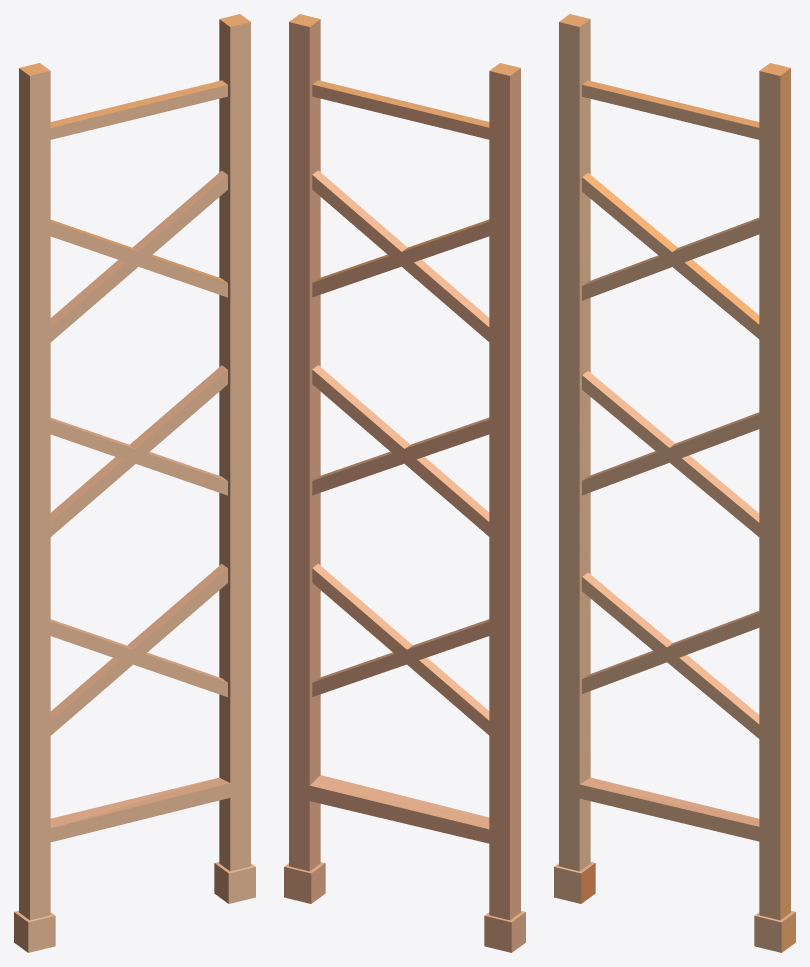
The model's file is rackorange.fbx.
3 renders of one model, left to right at view 1: azimuth 30°, elevation 25°; view 2: azimuth 150°, elevation 25°; view 3: azimuth 330°, elevation 25°, orthographic.
Visible parts, largest first — view 1: SM_Rack_01; view 2: SM_Rack_01; view 3: SM_Rack_01.
Part boxes in pixels (x1,y1,x2,y2): SM_Rack_01: (14, 14, 255, 952); SM_Rack_01: (284, 14, 525, 952); SM_Rack_01: (554, 14, 795, 952).
Size of the model in its own units: 115 by 422 by 12.48.
